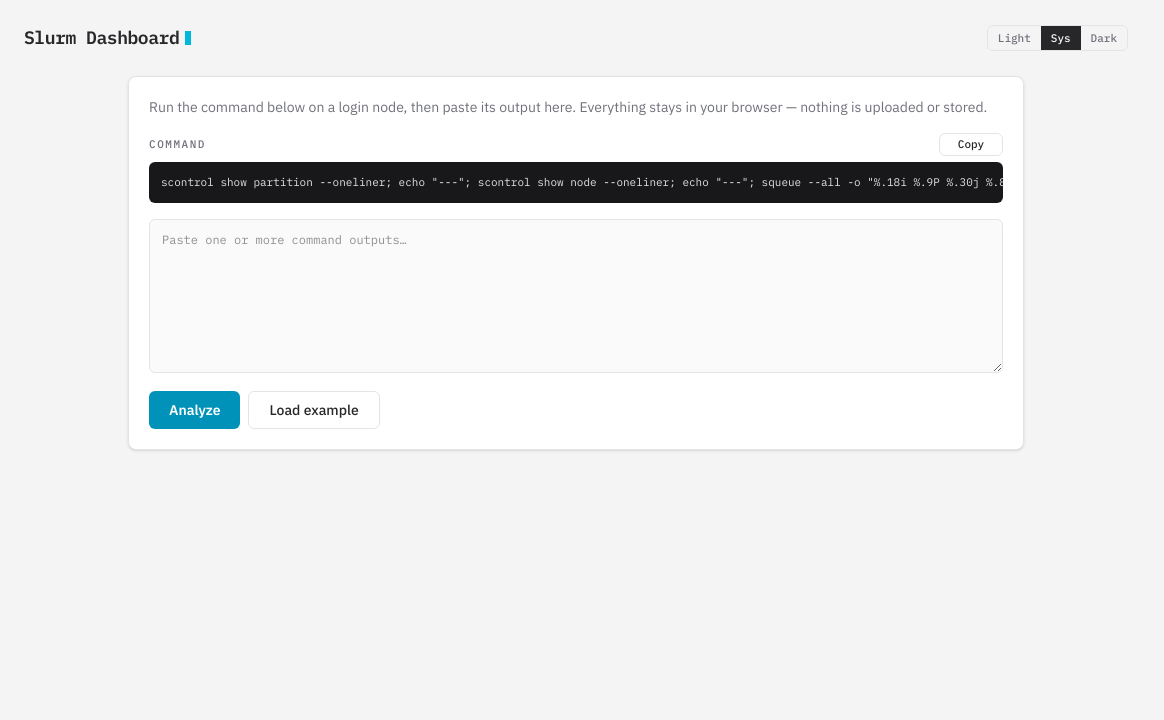
Test case: Slurm Dashboard › Overview Tab › expands a user row to list their jobs
Click the button "Load example": (314, 410) top-left (248, 391), bottom-right (380, 429)
(page scrolled)
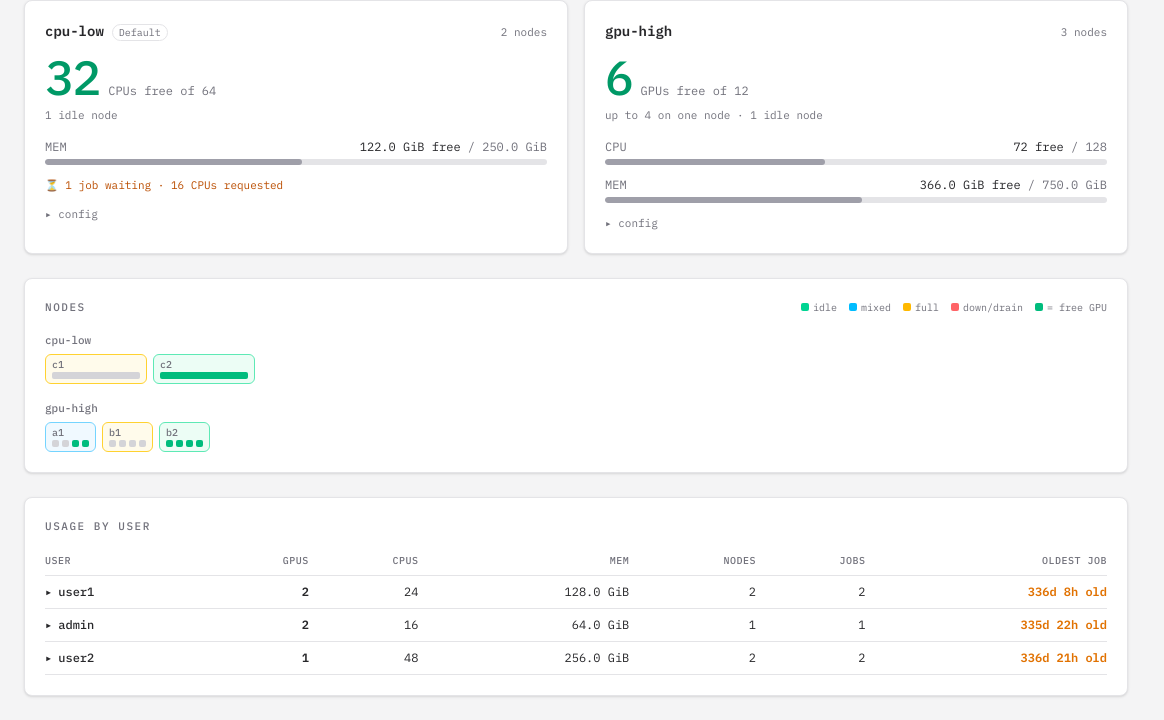
Click the text "admin": (76, 625) top-left (45, 609), bottom-right (215, 642)
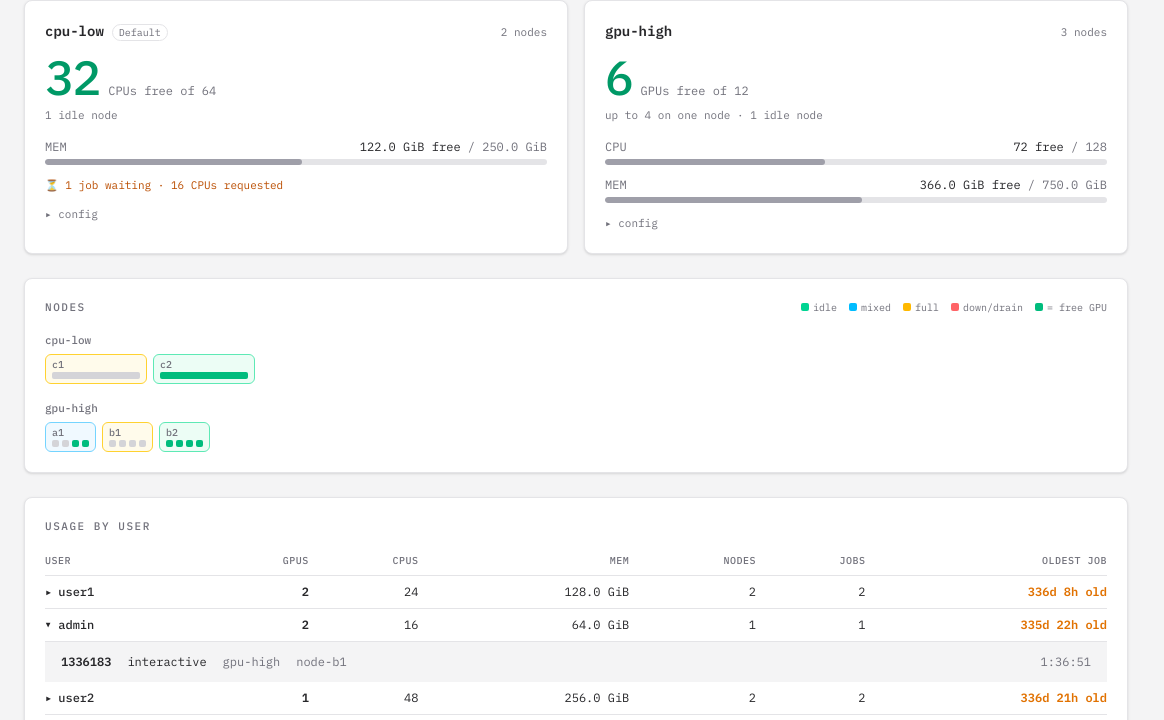
Expected: the text "interactive" is shown, top-left (127, 654), bottom-right (207, 670)
Expected: the text "1336183" is shown, top-left (61, 654), bottom-right (111, 670)
